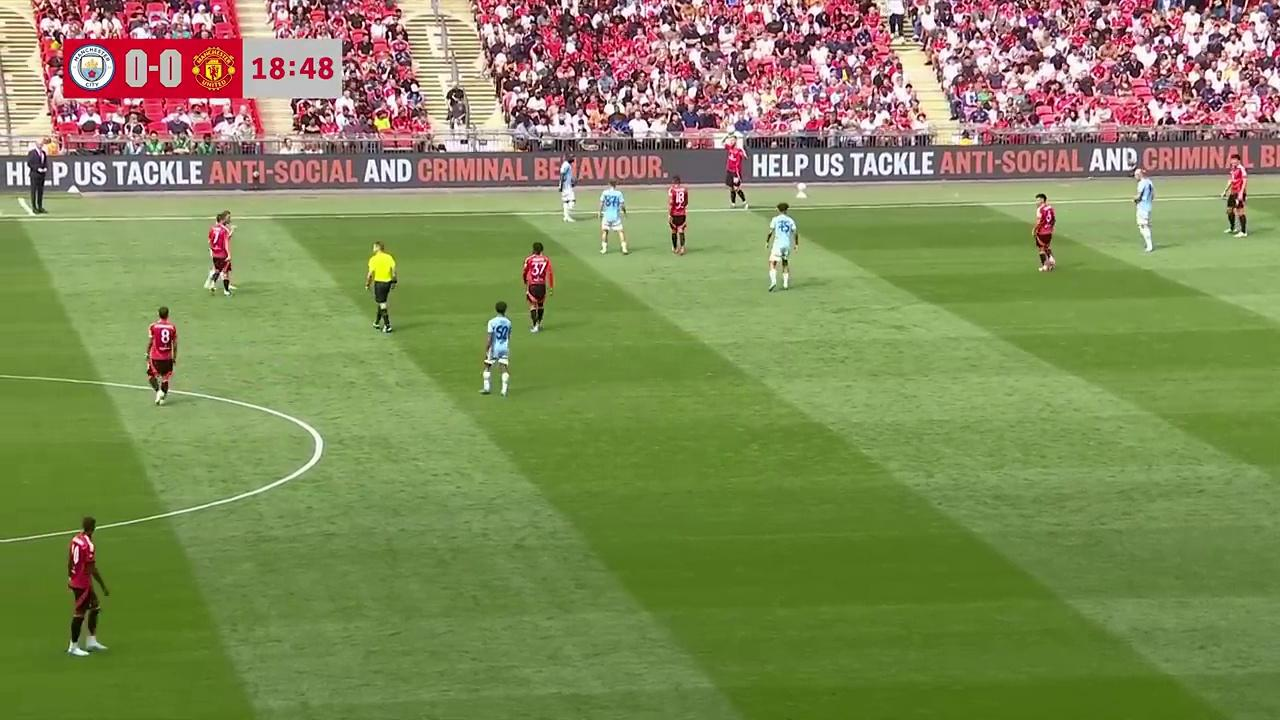player: (66, 515, 109, 656), (765, 201, 801, 291), (479, 302, 512, 396), (147, 306, 177, 404), (522, 243, 554, 332), (1220, 152, 1251, 236), (206, 210, 235, 296), (597, 185, 629, 254), (1031, 193, 1056, 272), (1132, 172, 1155, 252), (666, 176, 688, 255), (725, 136, 747, 210), (560, 168, 577, 222)
referee: (366, 241, 397, 332)
